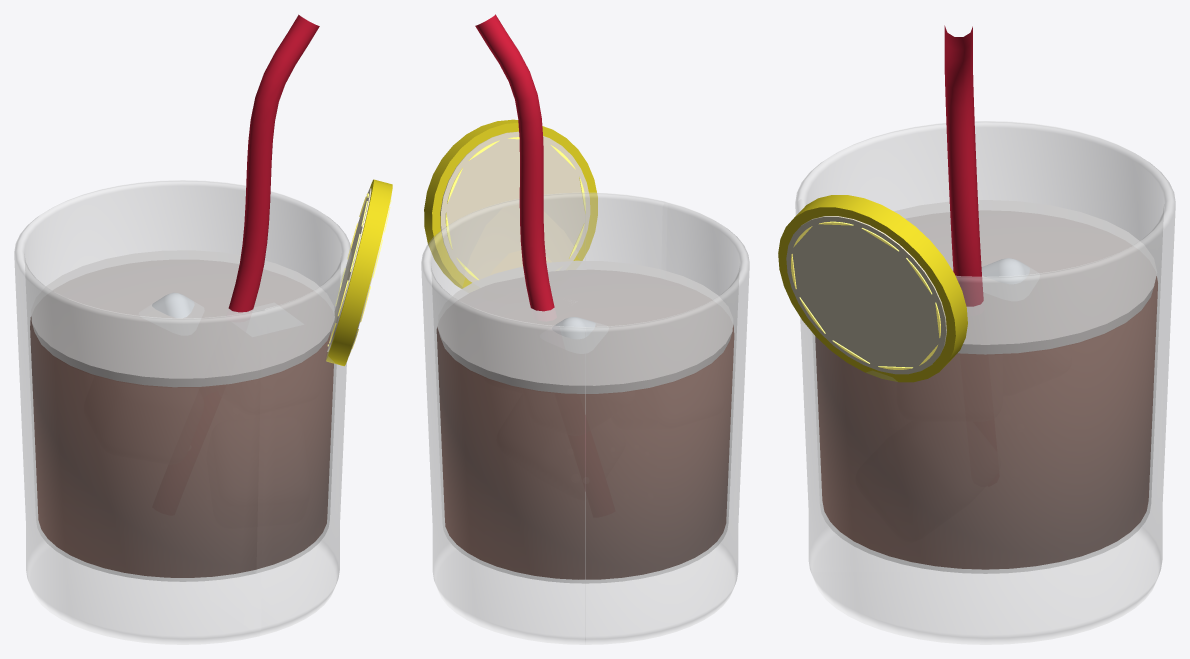
File: cola.glb
3 views of the same model, side by side, from view 1: azimuth 30°, elevation 25°; view 2: azimuth 150°, elevation 25°; view 3: azimuth 270°, elevation 25° (orthographic). The views are drawn at different scales.
Visible parts, largest first — view 1: glass, liquid, foam, straw, garnish (×3), ice; view 2: glass, liquid, foam, garnish (×3), straw, ice; view 3: glass, liquid, garnish (×3), foam, straw, ice.
Boxes of the visible parts, box(x1,y1,x2,y2) form: glass: box(14, 180, 351, 644); liquid: box(30, 317, 333, 577); foam: box(31, 250, 334, 387); straw: box(228, 14, 319, 312); garnish (×3): box(326, 179, 392, 366); ice: box(152, 292, 194, 318); glass: box(421, 192, 749, 644); liquid: box(436, 325, 734, 579); foam: box(437, 260, 733, 393); garnish (×3): box(424, 119, 597, 288); straw: box(475, 14, 554, 311); ice: box(552, 317, 595, 338); glass: box(795, 121, 1175, 644); liquid: box(815, 276, 1157, 569); garnish (×3): box(778, 195, 967, 382); foam: box(894, 200, 1157, 354); straw: box(944, 25, 983, 306); ice: box(981, 258, 1029, 283).
Size of the model in its own units: 0.0965 by 0.1537 by 0.0899.
